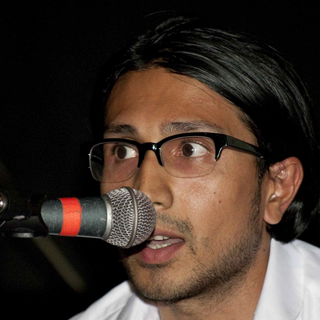eye: (107, 139, 142, 166), (172, 140, 211, 162)
